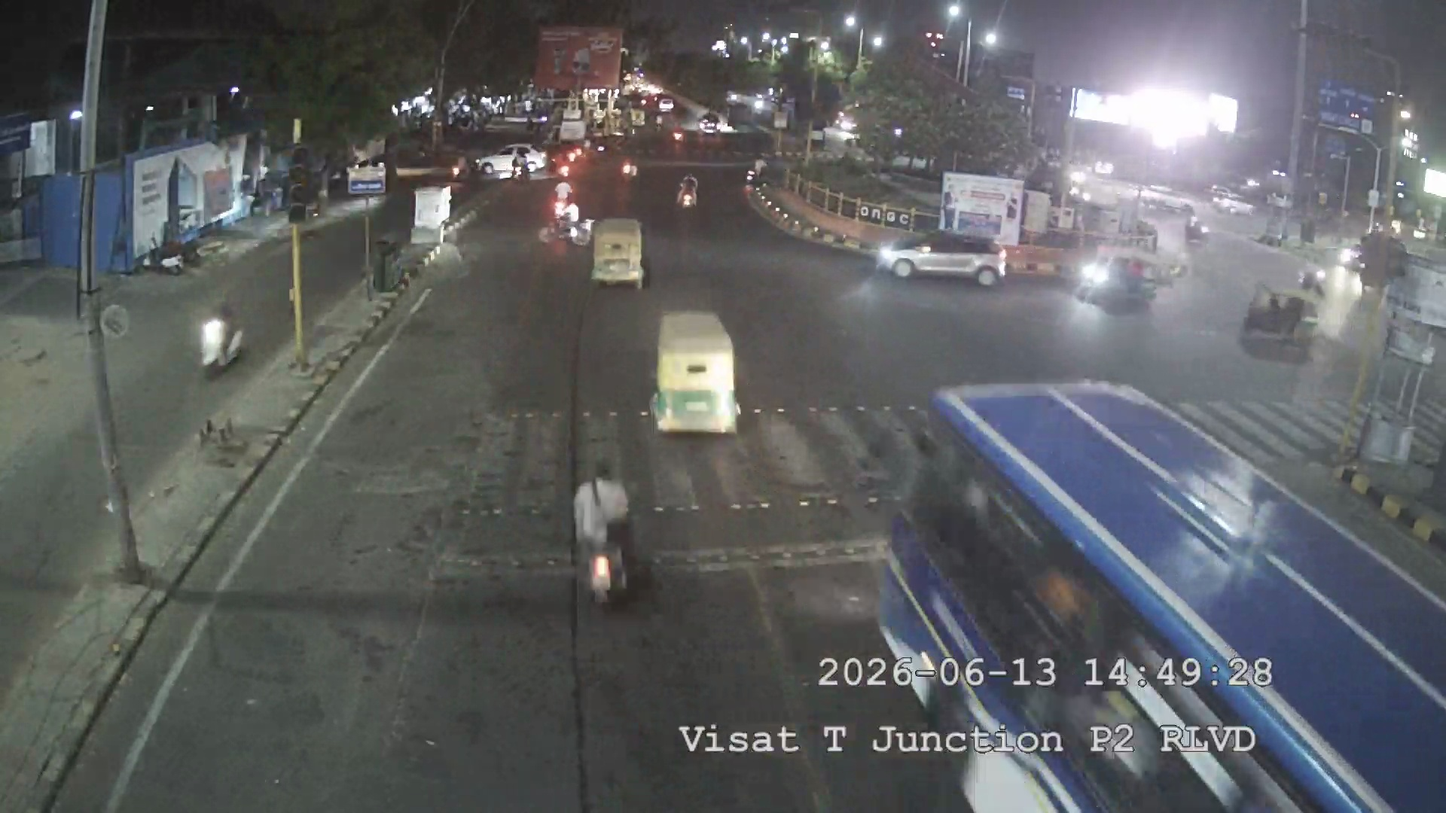auto_rickshaw: (650, 305, 742, 433), (1237, 283, 1323, 355), (590, 214, 649, 286)
bus: (864, 372, 1381, 799)
car: (873, 230, 1011, 287), (1236, 281, 1323, 359), (1073, 244, 1166, 314)
two_wheeler: (560, 461, 643, 611), (184, 290, 250, 378), (552, 184, 590, 247), (548, 176, 585, 236), (672, 168, 704, 213), (617, 146, 642, 185)
